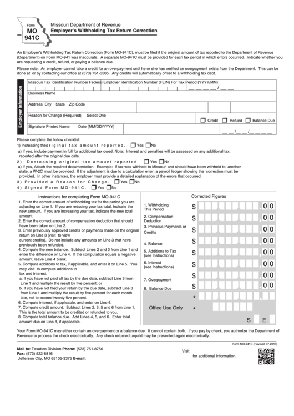checkbox: (252, 313, 261, 325), (268, 313, 277, 325), (130, 141, 137, 149), (144, 140, 151, 148), (143, 156, 150, 164), (158, 157, 165, 165), (128, 177, 135, 185), (113, 176, 120, 184), (199, 116, 206, 124), (244, 115, 251, 123), (91, 182, 97, 191), (106, 183, 112, 191), (222, 115, 228, 123)
textbox: (26, 88, 278, 103), (25, 111, 198, 125), (25, 99, 138, 114), (184, 77, 278, 92), (26, 122, 125, 136), (122, 122, 221, 136), (98, 78, 188, 92), (134, 99, 210, 114), (26, 78, 103, 92), (197, 290, 277, 302), (218, 122, 278, 136), (229, 99, 278, 114), (197, 223, 260, 234), (197, 234, 260, 245), (197, 246, 260, 257), (197, 269, 260, 280), (197, 279, 260, 290), (196, 200, 259, 210), (197, 212, 260, 222), (197, 258, 260, 268), (211, 300, 254, 312), (206, 99, 232, 114)
